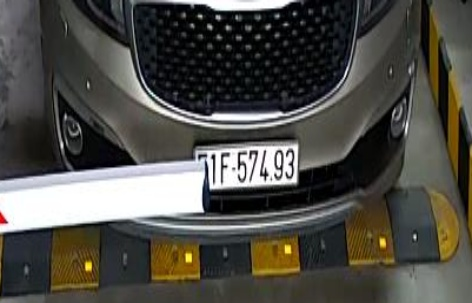plate: (191, 143, 301, 188)
